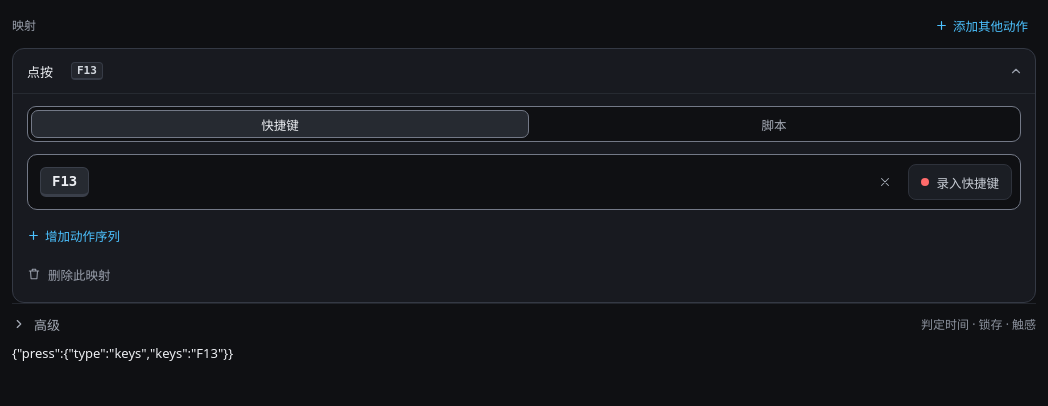
Test: warns about reserved shortcuts but not about bare letters (F6)
The width and height of the screenshot is (1048, 406).
Step 1. Click the button "录入快捷键" → {"x": 960, "y": 182}, box [908,164,1012,200]
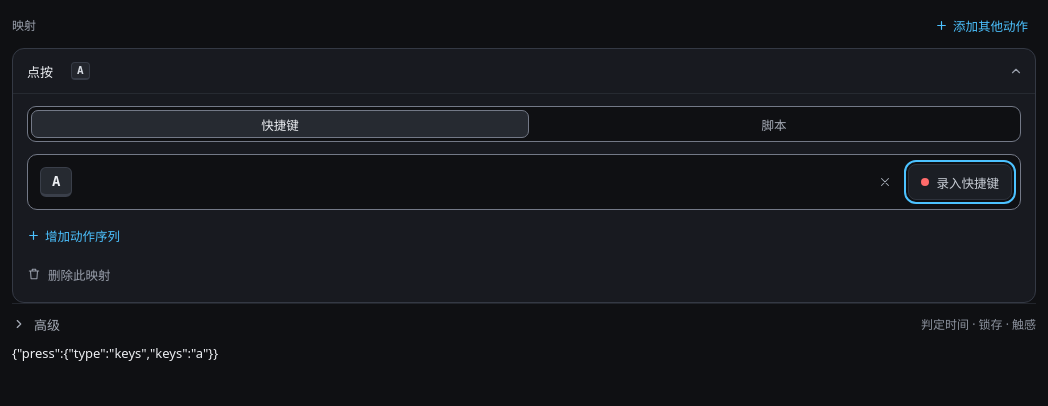
Step 2. Click the button "录入快捷键" → {"x": 960, "y": 182}, box [908,164,1012,200]
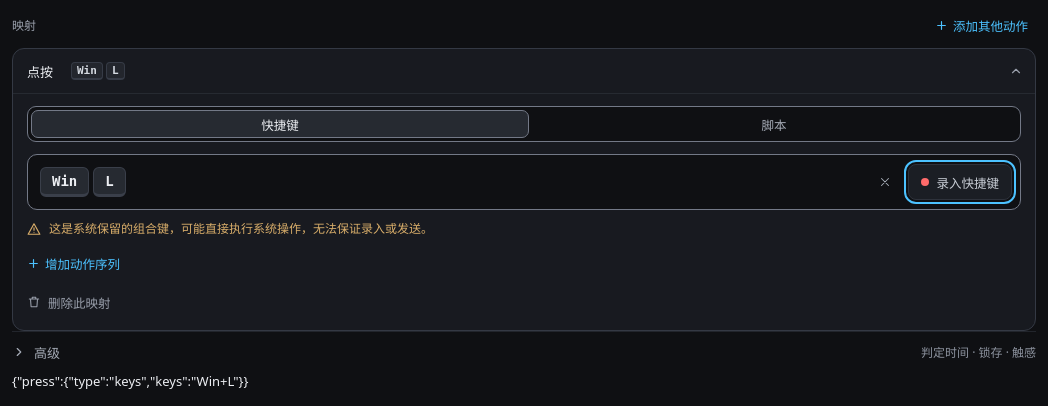
Result: the element with test id "reserved-warning" is shown at [27,220,433,237]
